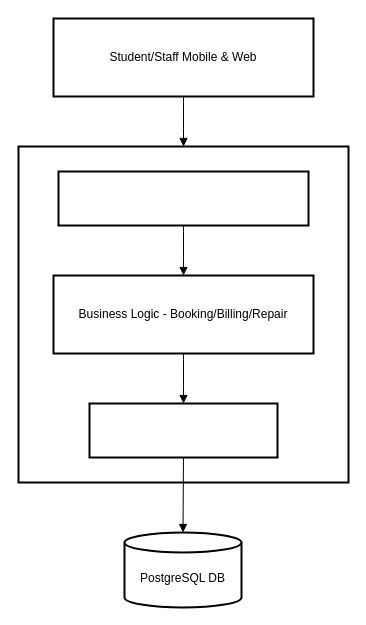
The diagram is 366 pixels wide and 625 high, and some of its shapes have lost their labels. Each missing label, with the centre of its shape:
"Data Access Layer" belongs at (x=183, y=430).
"Presentation Layer - React" belongs at (x=183, y=198).
